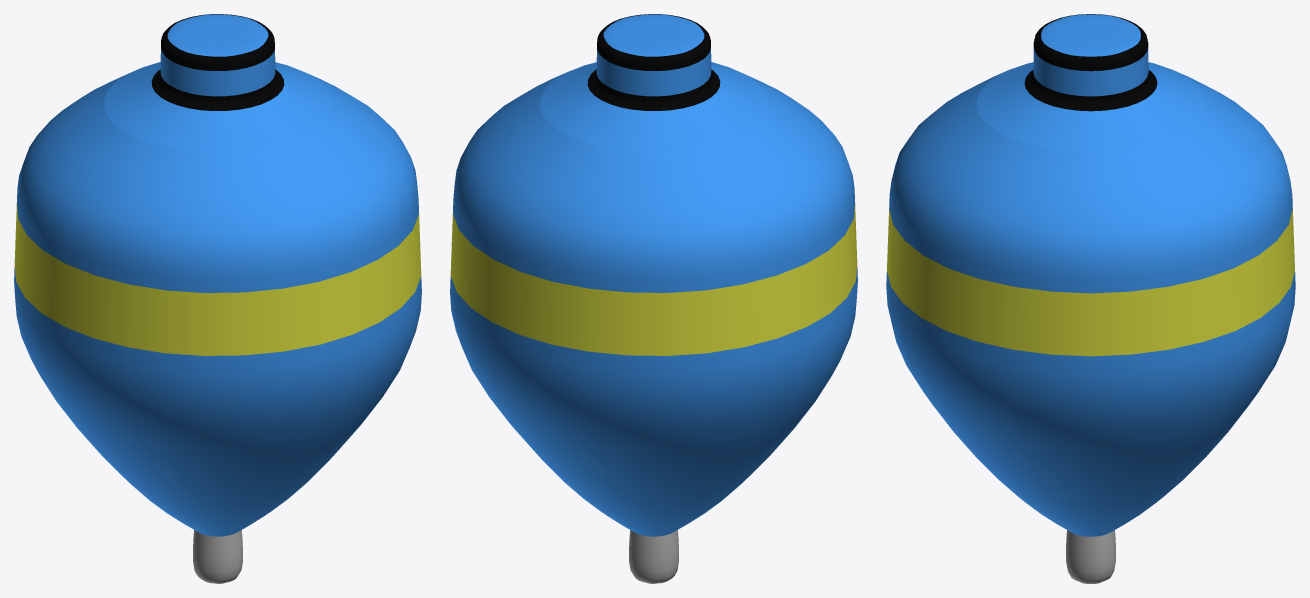
3 views of the same model, side by side, from view 1: azimuth 30°, elevation 25°; view 2: azimuth 150°, elevation 25°; view 3: azimuth 270°, elevation 25° (orthographic).
Parts seen in each view (by area): view 1: Trompo; view 2: Trompo; view 3: Trompo.
Part boxes in pixels (<box>): Trompo: <box>14,14,421,583</box>; Trompo: <box>450,14,857,583</box>; Trompo: <box>886,14,1295,583</box>.
Bounding box in the file's own units: 33.78 × 49.56 × 33.78.
